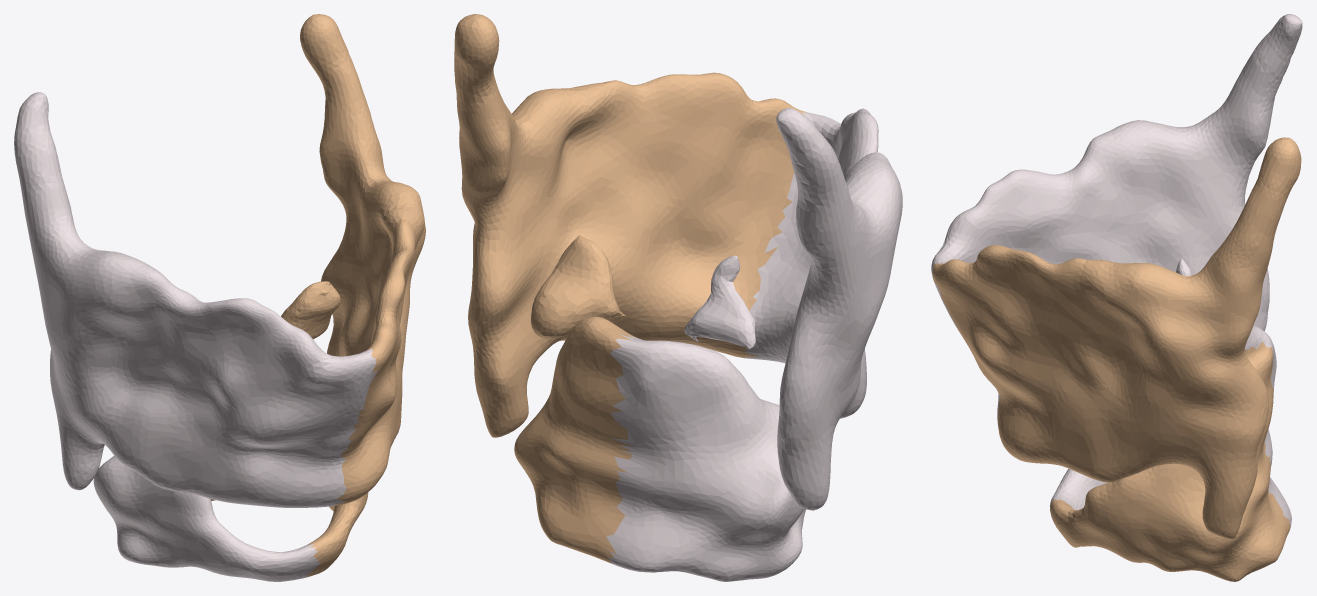
Rendered from larynx.glb.
The picture shows the model from 3 angles, left to right: view 1: azimuth 30°, elevation 25°; view 2: azimuth 150°, elevation 25°; view 3: azimuth 270°, elevation 25°; orthographic projection. The views are drawn at different scales.
Visible parts, largest first — view 1: Opensource Larynx; view 2: Opensource Larynx; view 3: Opensource Larynx.
Boxes of the visible parts, bbox=[...] form: Opensource Larynx: bbox=[14, 14, 425, 581]; Opensource Larynx: bbox=[454, 14, 902, 581]; Opensource Larynx: bbox=[931, 14, 1302, 581].
Size of the model in its own units: 40.47 by 50.58 by 36.35.
